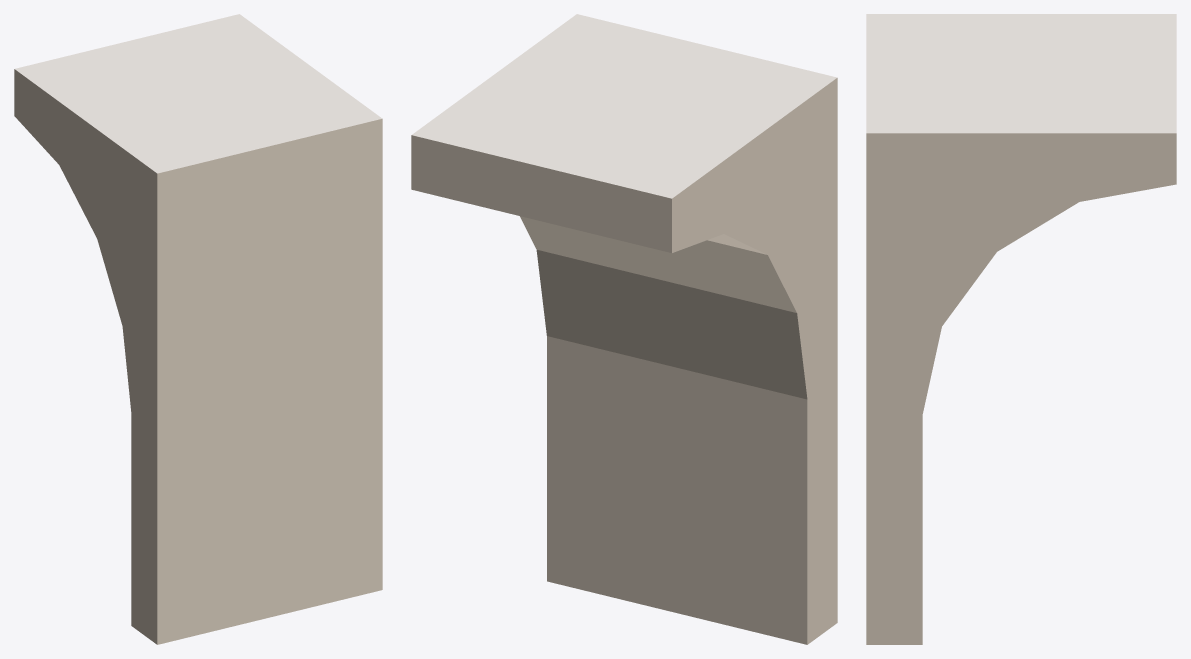
Rendered from Wall_Arch_Straight.glb.
3 views of the same model, side by side, from view 1: azimuth 30°, elevation 25°; view 2: azimuth 150°, elevation 25°; view 3: azimuth 270°, elevation 25° (orthographic). The views are drawn at different scales.
Parts seen in each view (by area): view 1: Wall_Arch_Straight; view 2: Wall_Arch_Straight; view 3: Wall_Arch_Straight.
Part boxes in pixels (bbox=[...]): Wall_Arch_Straight: bbox=[14, 14, 382, 644]; Wall_Arch_Straight: bbox=[411, 14, 837, 644]; Wall_Arch_Straight: bbox=[866, 14, 1176, 644].
Bounding box in the file's own units: 1 × 2 × 1.1.
